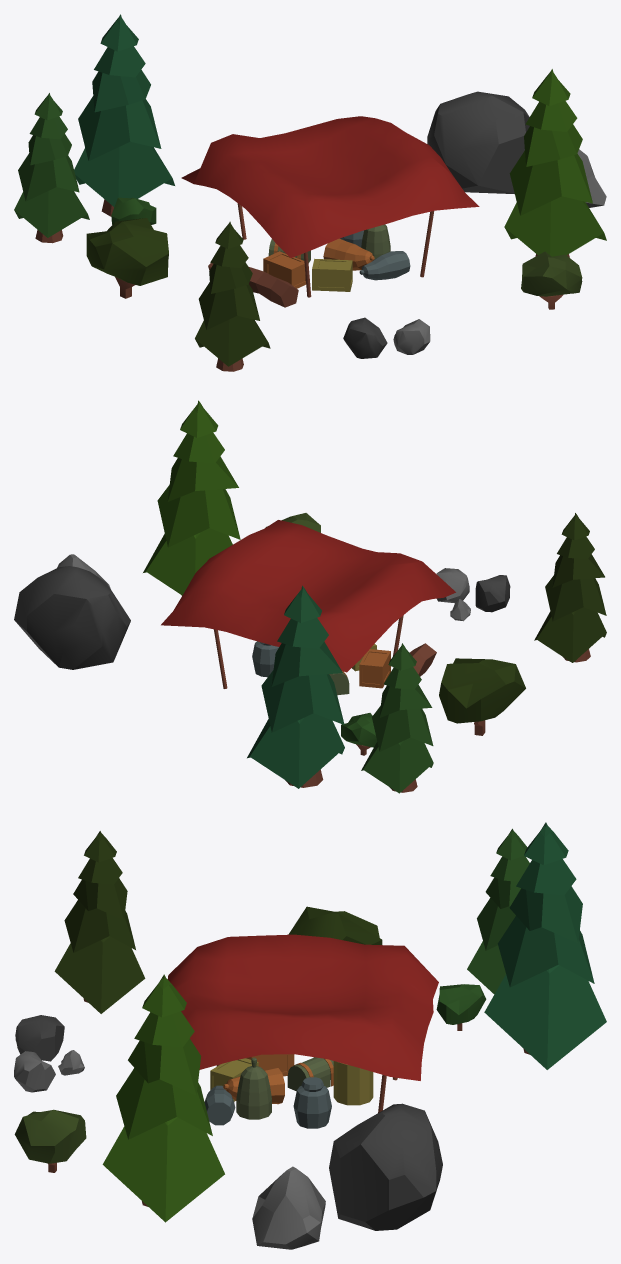
The model's file is WarehouseLVL1.fbx.
3 renders of one model, top to bottom at view 1: azimuth 30°, elevation 25°; view 2: azimuth 150°, elevation 25°; view 3: azimuth 270°, elevation 25°, orthographic. The views are drawn at different scales.
Visible parts, largest first — view 1: Plane, ель.003, ель.005, Cube.014, ель.002, ель.004, куст.001, куст.002, Cube.002, Cube.010, бревна.001, Cube.003 (+7 smaller); view 2: Plane, ель.003, ель.005, Cube.014, ель.004, ель.002, куст.001, Cube.010, Cube.003, куст.003, Cube.011, Cylinder.003 (+1 smaller); view 3: Plane, ель.003, ель.005, Cube.014, ель.002, Cube.008, ель.004, куст.002, куст.001, Cube.010, Cylinder.004, куст.003 (+8 smaller).
Part boxes in pixels (<box>): Plane: <box>181,116,479,257</box>; ель.003: <box>74,14,174,216</box>; ель.005: <box>504,69,606,257</box>; Cube.014: <box>427,91,529,194</box>; ель.002: <box>195,221,270,371</box>; ель.004: <box>14,93,89,243</box>; куст.001: <box>86,218,168,298</box>; куст.002: <box>521,251,582,309</box>; Cube.002: <box>312,258,352,291</box>; Cube.010: <box>343,317,387,358</box>; бревна.001: <box>208,263,298,307</box>; Cube.003: <box>263,251,306,288</box>; Plane: <box>161,520,455,672</box>; ель.003: <box>247,585,344,788</box>; ель.005: <box>143,400,240,595</box>; Cube.014: <box>14,566,130,669</box>; ель.004: <box>361,643,433,793</box>; ель.002: <box>534,513,606,662</box>; куст.001: <box>439,658,525,735</box>; Cube.010: <box>475,575,510,612</box>; Cube.003: <box>359,649,390,688</box>; куст.003: <box>341,713,377,755</box>; Cube.011: <box>436,568,469,603</box>; Cylinder.003: <box>252,641,278,677</box>; Plane: <box>167,934,438,1080</box>; ель.003: <box>484,822,606,1069</box>; ель.005: <box>102,974,224,1222</box>; Cube.014: <box>329,1103,442,1230</box>; ель.002: <box>54,831,145,1013</box>; Cube.008: <box>252,1166,325,1249</box>; ель.004: <box>467,828,529,994</box>; куст.002: <box>14,1109,86,1172</box>; куст.001: <box>288,906,382,944</box>; Cube.010: <box>15,1015,64,1061</box>; Cylinder.004: <box>236,1057,271,1119</box>; куст.003: <box>436,984,486,1030</box>.
Size of the model in its own units: 745 by 284 by 673.
